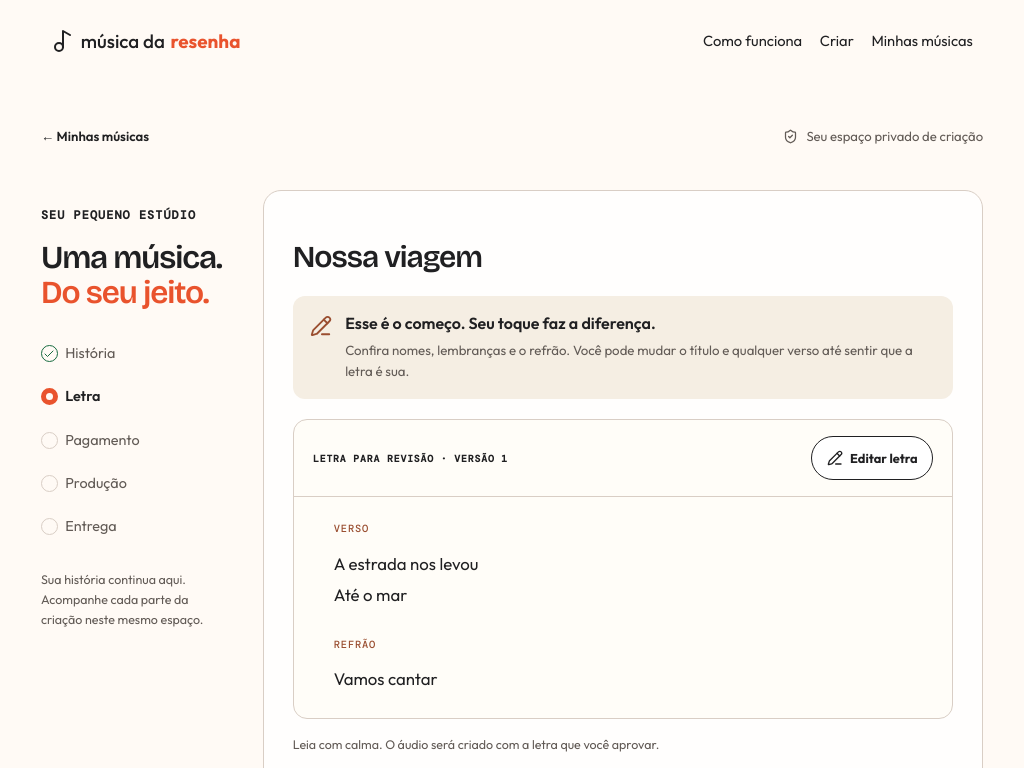
Test: revisão da letra e acompanhamento › convida a editar e permite descartar alterações sem enviar outra versão
Click the button "Editar letra" at (872, 458), box [811,436,933,480]
(page scrolled)
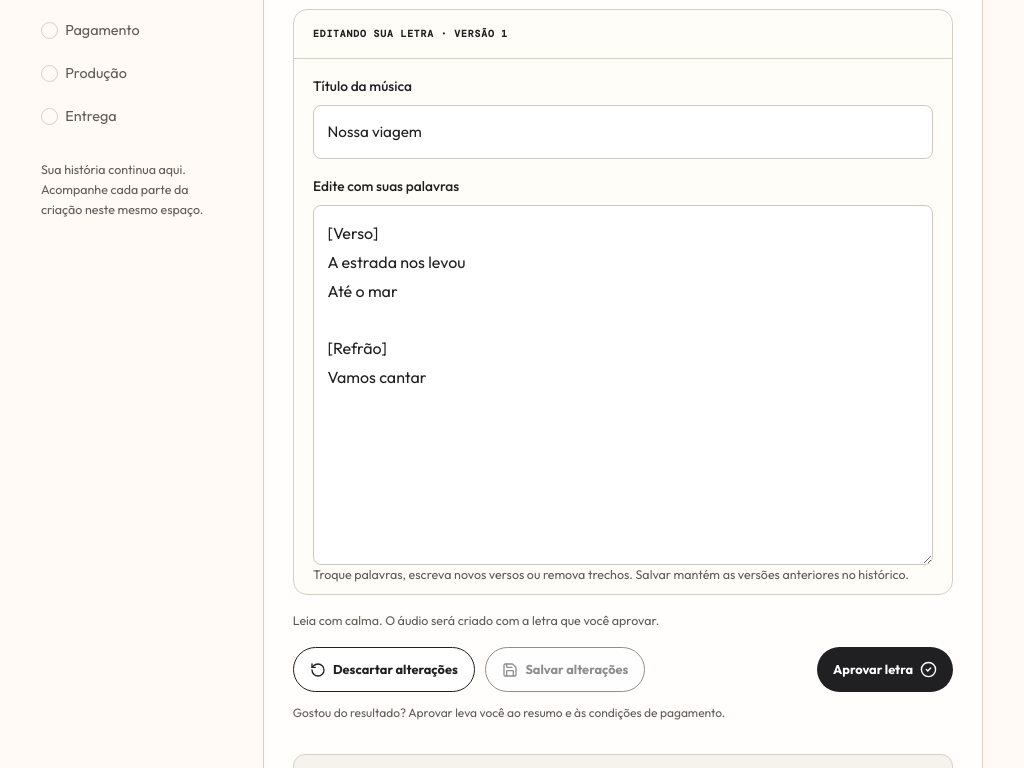
Replace the text in the text box named "Letra da música" with "Uma letra diferente" at (623, 385), box [313,205,933,565]
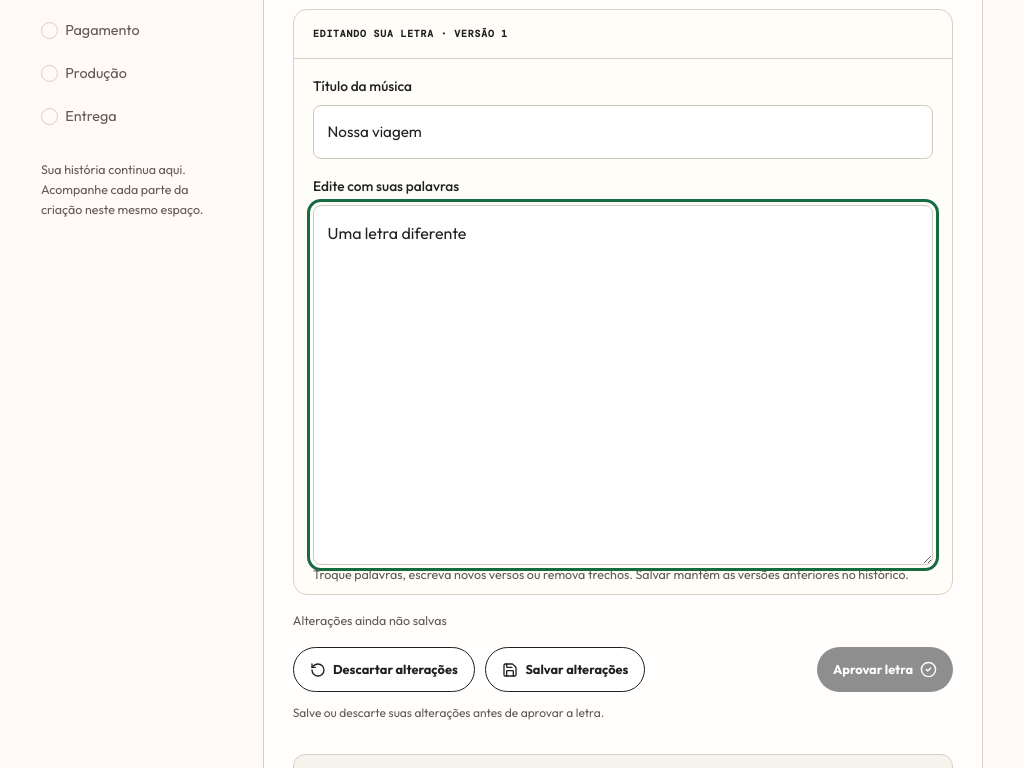
Now the text "Alterações ainda não salvas" is shown, box [293,613,447,628]
Click the button "Descartar alterações" at (384, 670), box [293,647,475,692]
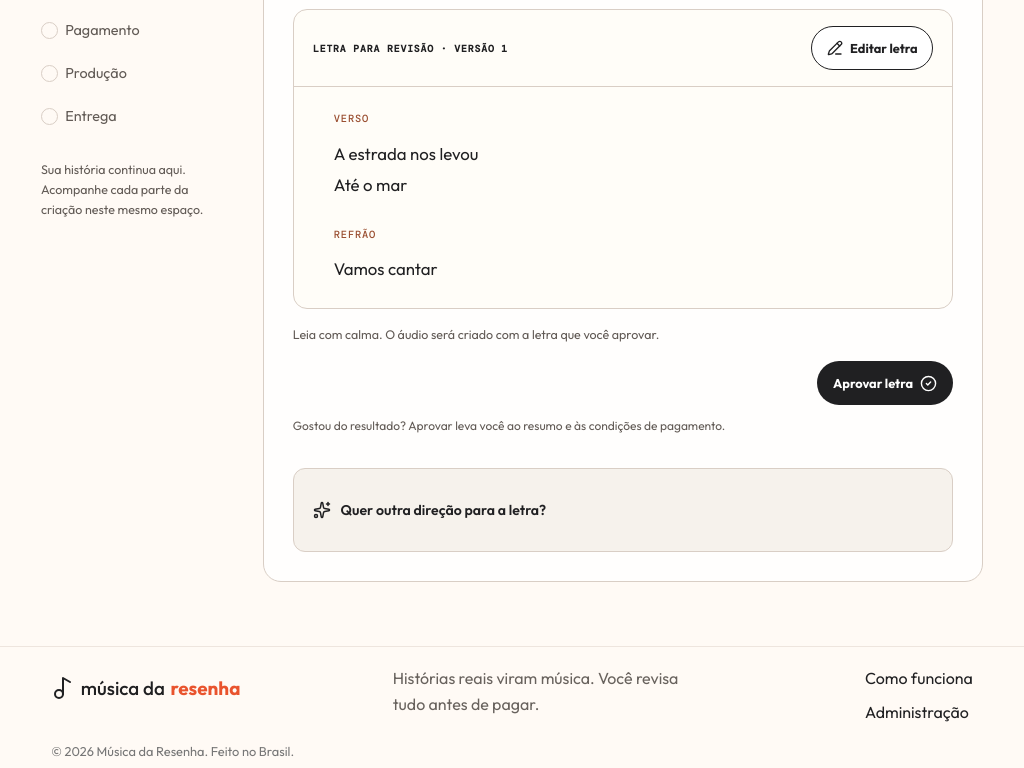
Now the text "A estrada nos levou" is shown, box [334,143,478,195]
